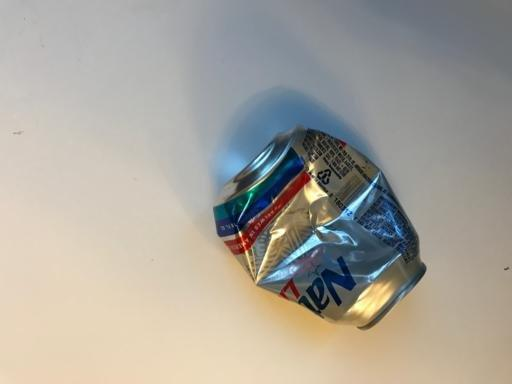kaleng: (214, 124, 427, 328)
